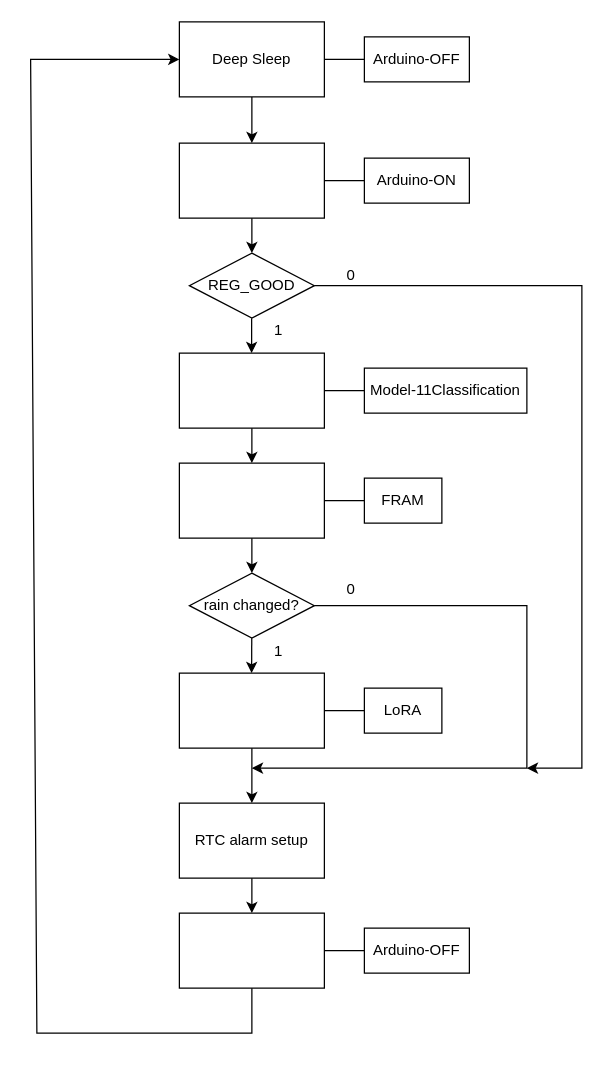
This 614x1065 diagram has some shape labels left out. The shapes that lost their labels are listed below. From the top down, each one's box as (x1, y1, x2, y2) in pixels, then its label:
(178, 142, 324, 218): RTC wake up
(178, 352, 324, 428): Running Inference
(178, 462, 324, 538): Log measurement
(178, 672, 324, 748): Transmit
(178, 912, 324, 988): RTC power down
